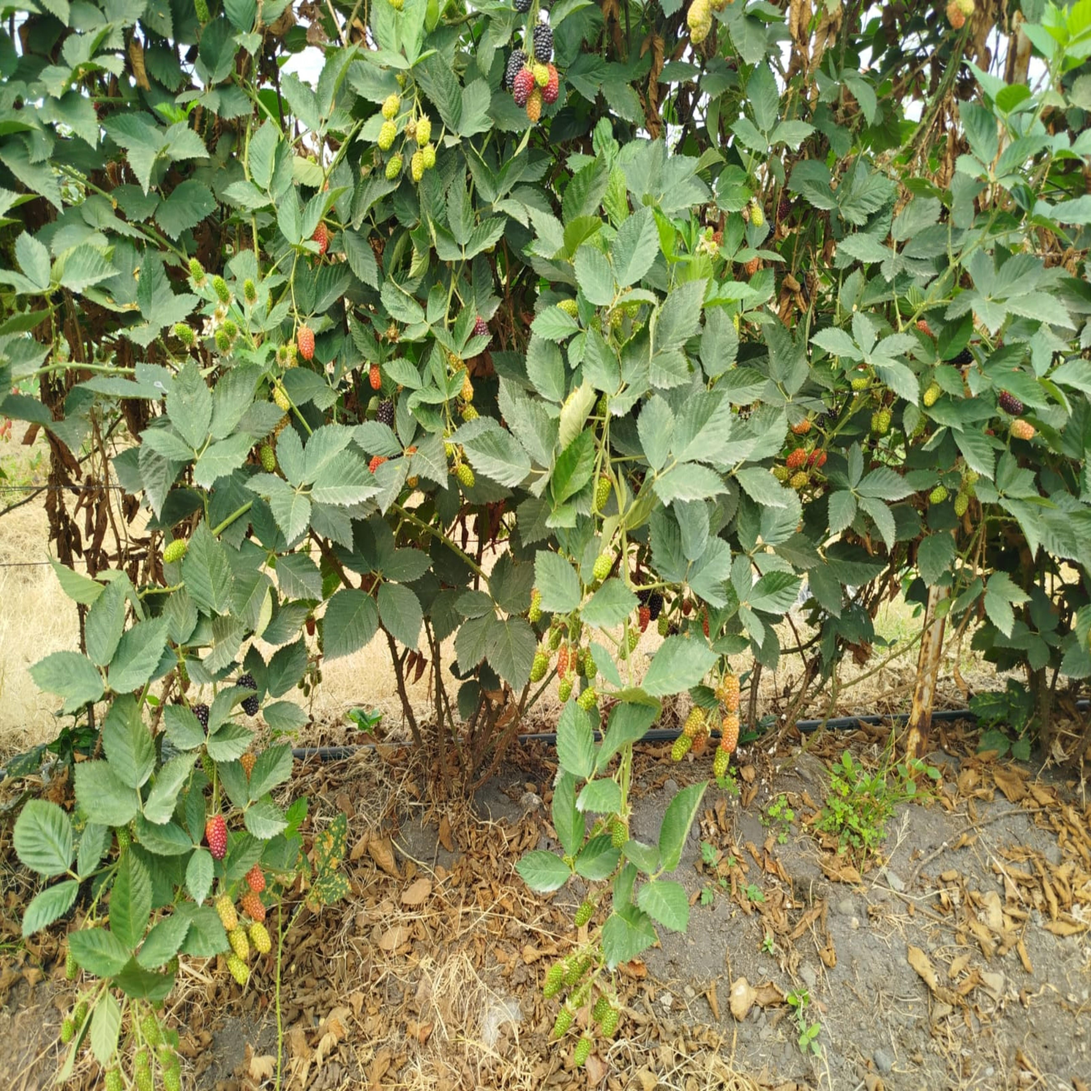maduro: (504, 48, 527, 90), (237, 673, 259, 716), (533, 21, 553, 63), (376, 398, 394, 427), (192, 704, 209, 733), (514, 0, 531, 13)
marron: (205, 813, 227, 860), (513, 67, 534, 107), (542, 64, 559, 104), (998, 390, 1024, 416), (473, 315, 489, 337)
naranja: (240, 891, 266, 922), (718, 673, 739, 711), (721, 713, 739, 753), (297, 324, 315, 360), (245, 864, 266, 893), (1010, 418, 1035, 441), (526, 88, 542, 123), (312, 222, 329, 254), (786, 447, 808, 469), (807, 449, 827, 468), (916, 318, 935, 337), (692, 734, 708, 756), (369, 455, 387, 474), (791, 419, 812, 435), (744, 256, 760, 277), (370, 363, 382, 390), (405, 445, 417, 455)
verde: (687, 0, 712, 46), (215, 894, 238, 932), (946, 0, 975, 30), (133, 1048, 153, 1091), (543, 962, 566, 999), (140, 1011, 163, 1046), (228, 925, 249, 962), (565, 958, 590, 987), (249, 922, 271, 954), (227, 954, 249, 985), (529, 648, 549, 682), (552, 1006, 573, 1038), (683, 706, 703, 738), (163, 539, 188, 564), (377, 120, 397, 151), (273, 381, 291, 414), (671, 734, 692, 762), (574, 900, 595, 928), (594, 476, 611, 510), (574, 1037, 593, 1067), (163, 1058, 180, 1091), (871, 408, 891, 436), (211, 275, 230, 304), (173, 323, 195, 348), (454, 463, 475, 489), (713, 747, 730, 779), (593, 553, 612, 581), (592, 995, 611, 1023), (602, 1008, 620, 1037), (381, 93, 400, 120), (923, 381, 942, 408), (414, 115, 431, 145), (612, 819, 629, 849), (277, 343, 297, 367), (577, 687, 596, 712), (528, 588, 541, 624), (260, 444, 276, 473), (410, 150, 424, 183), (65, 947, 79, 980), (105, 1066, 123, 1091), (190, 257, 205, 286), (73, 1000, 88, 1029), (750, 199, 765, 227), (461, 371, 474, 403), (386, 154, 402, 180), (60, 1017, 75, 1044), (557, 299, 578, 318), (215, 327, 230, 353), (532, 63, 548, 87), (585, 648, 597, 680), (954, 492, 969, 517), (422, 143, 436, 169), (929, 485, 948, 504), (789, 471, 808, 490), (244, 278, 257, 305), (558, 678, 572, 703), (461, 403, 479, 422), (223, 318, 238, 340), (447, 352, 464, 370), (851, 375, 870, 391), (772, 465, 789, 482), (627, 630, 640, 652), (550, 627, 562, 650), (444, 442, 457, 461)
